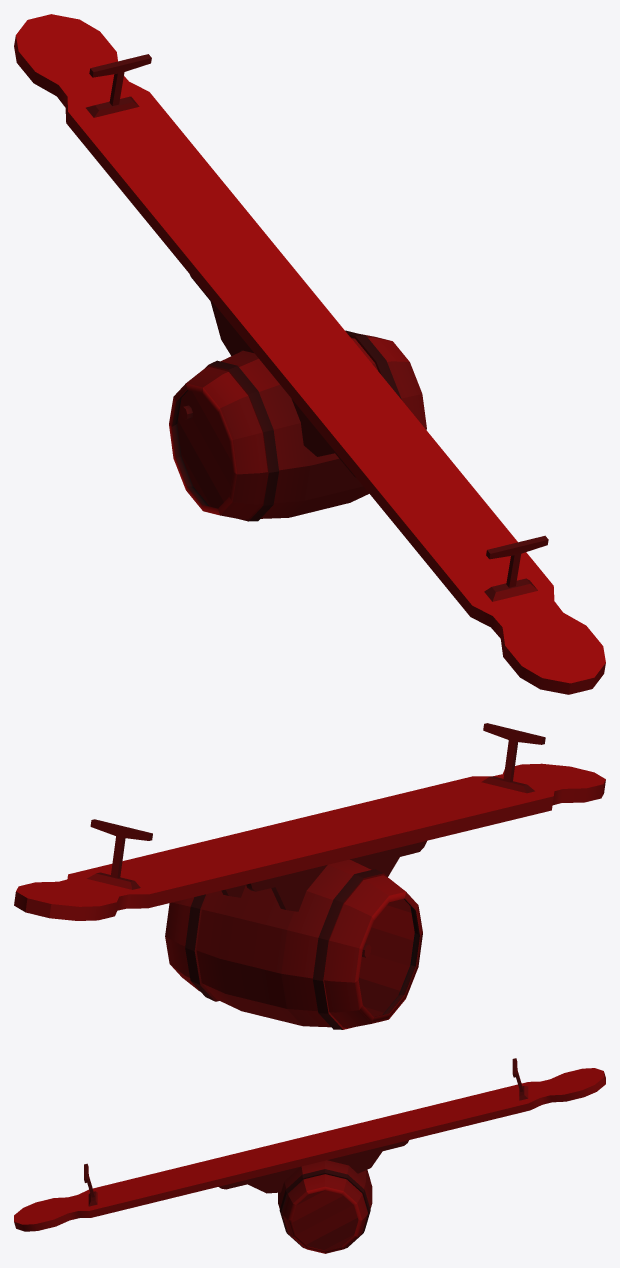
File: Seesaw.glb
3 renders of one model, top to bottom at view 1: azimuth 30°, elevation 25°; view 2: azimuth 150°, elevation 25°; view 3: azimuth 270°, elevation 25°, orthographic. The views are drawn at different scales.
Parts seen in each view (by area): view 1: Seesaw; view 2: Seesaw; view 3: Seesaw.
Boxes of the visible parts, left/top/right/bottom form: Seesaw: left=14, top=14, right=605, bottom=694; Seesaw: left=14, top=723, right=605, bottom=1029; Seesaw: left=14, top=1058, right=605, bottom=1253.
Bounding box in the file's own units: 3.87 × 6.13 × 19.19.
